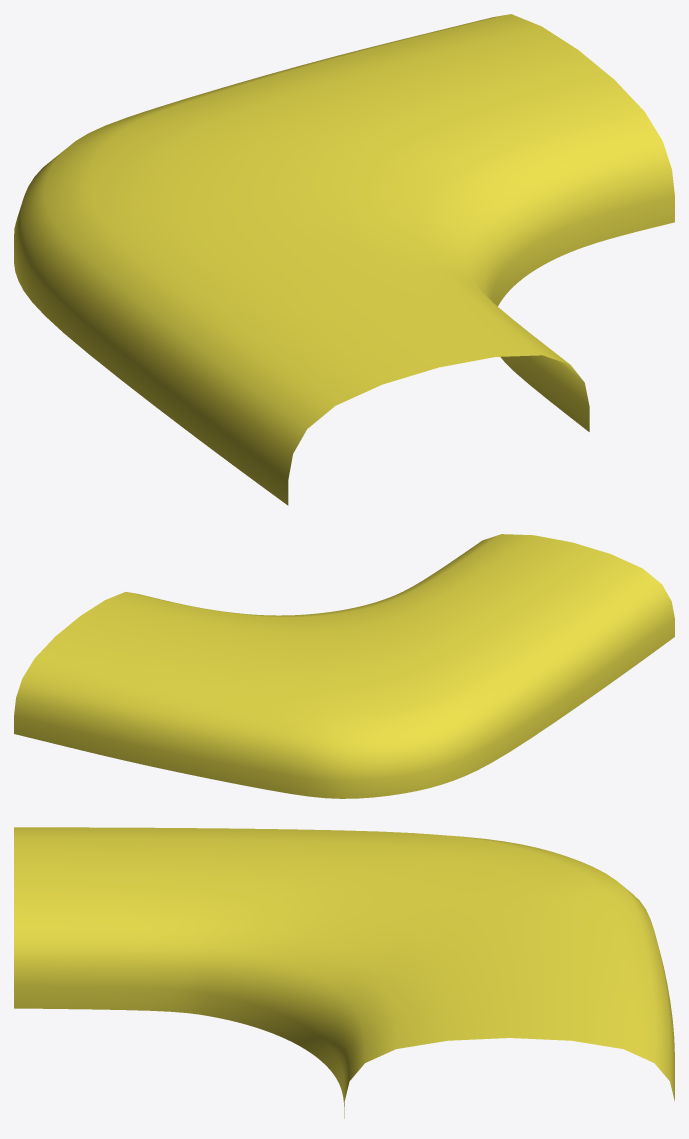
The model's file is CurvaRectaAmarilla.fbx.
The picture shows the model from 3 angles, top to bottom: view 1: azimuth 30°, elevation 25°; view 2: azimuth 150°, elevation 25°; view 3: azimuth 270°, elevation 25°; orthographic projection. The views are drawn at different scales.
Visible parts, largest first — view 1: CurvaAmarilla; view 2: CurvaAmarilla; view 3: CurvaAmarilla.
Part boxes in pixels (bbox=[...]): CurvaAmarilla: bbox=[14, 14, 674, 505]; CurvaAmarilla: bbox=[14, 534, 674, 798]; CurvaAmarilla: bbox=[14, 827, 674, 1118].
Bounding box in the file's own units: 0.8642 × 0.1447 × 1.
